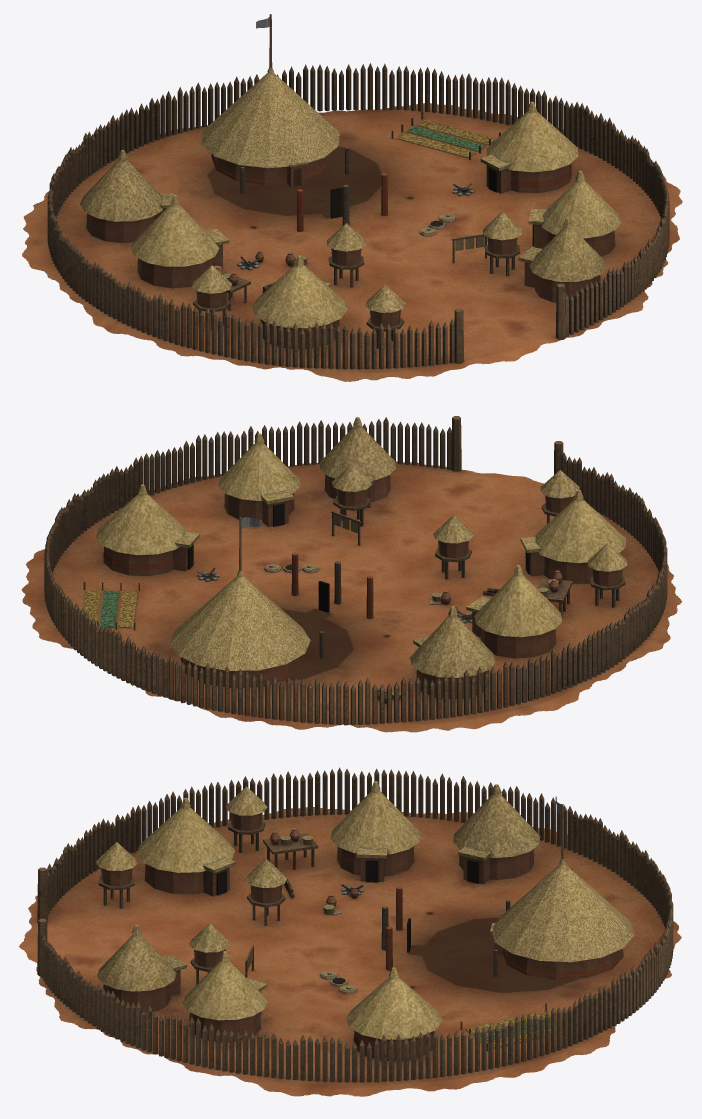
The model's file is stone-town-small-a-westafrica.glb.
The picture shows the model from 3 angles, top to bottom: view 1: azimuth 30°, elevation 25°; view 2: azimuth 150°, elevation 25°; view 3: azimuth 270°, elevation 25°; orthographic projection. The views are drawn at different scales.
Parts seen in each view (by area): view 1: LOD0; view 2: LOD0; view 3: LOD0.
Part boxes in pixels (bbox=[...]): LOD0: bbox=[22, 14, 682, 381]; LOD0: bbox=[21, 416, 682, 732]; LOD0: bbox=[19, 767, 681, 1096].
Size of what is drawn, in the model's own units: 4.01 by 0.97 by 3.83.
Materials: 3 (3 with a texture image).
